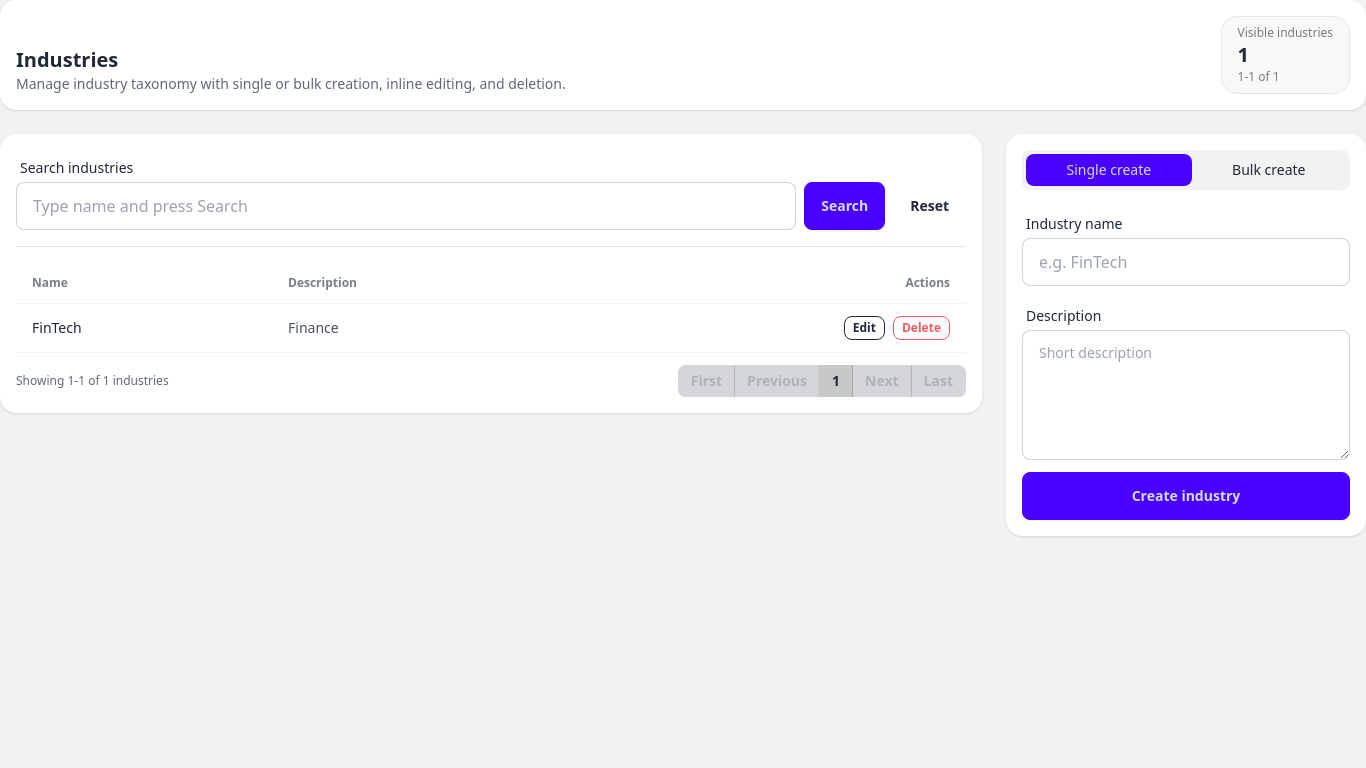
IndustriesPage › creates one industry from single create mode
Expected: the text "FinTech" is shown, [32, 318, 82, 337]
In the field labelled "Industry name": (1186,262) [1022, 238, 1350, 286], type "HealthTech"
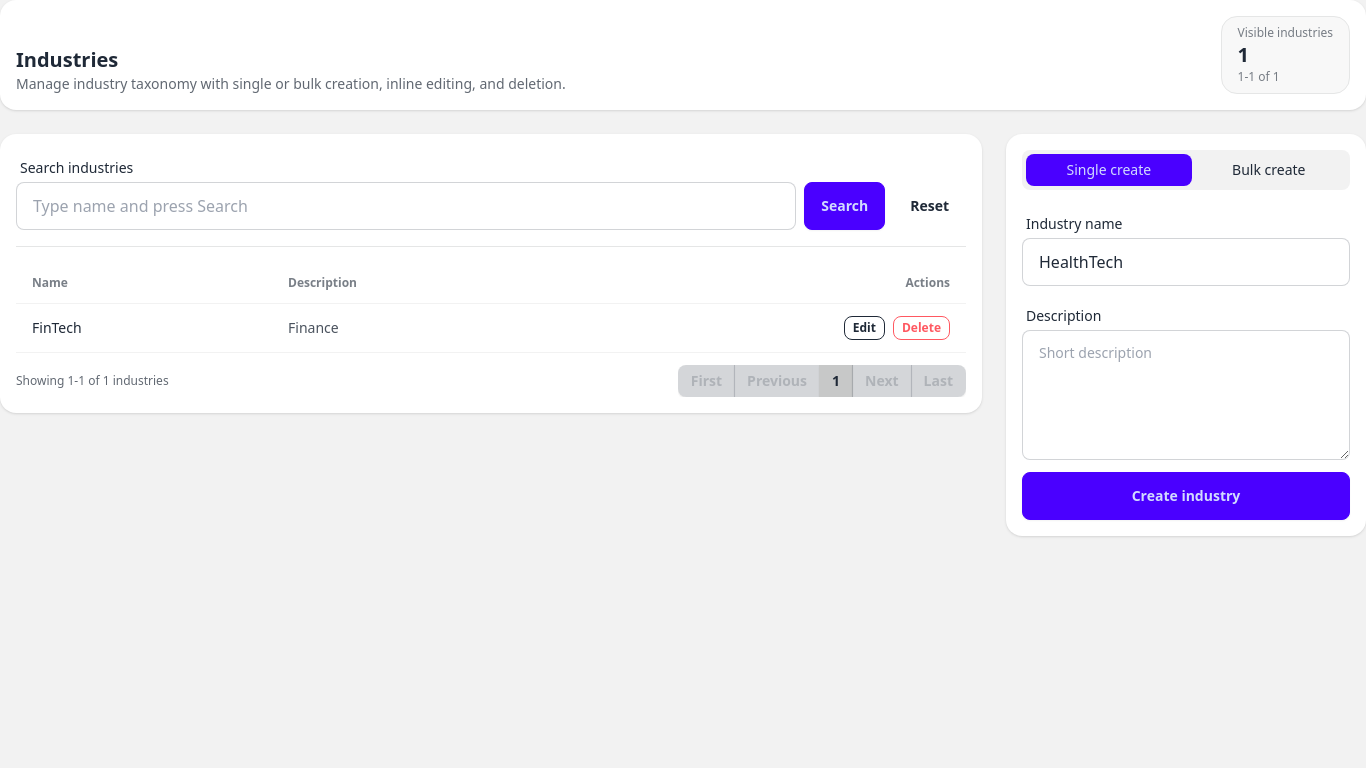
In the text box labelled "Description": (1186,395) [1022, 330, 1350, 460], type "Healthcare"
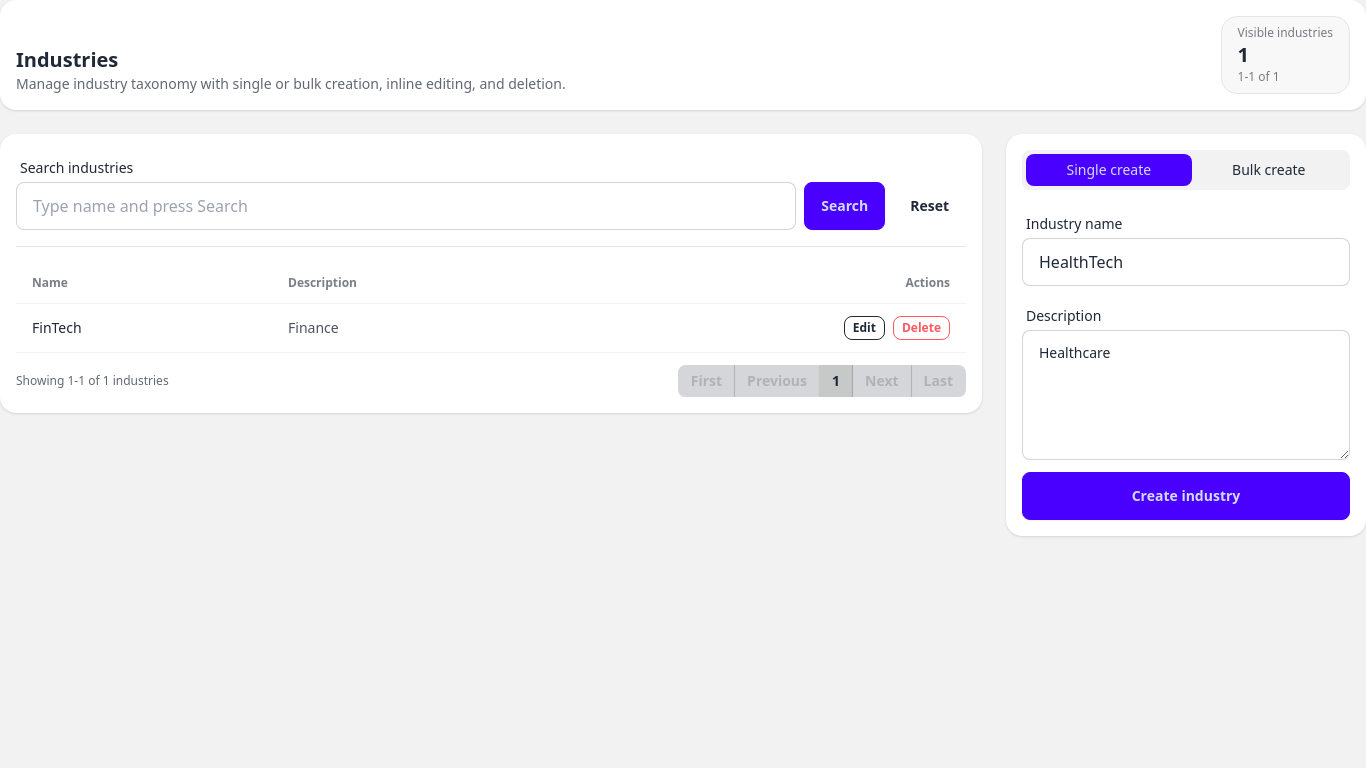
Click the button "Create industry": (1186,496) [1022, 472, 1350, 520]
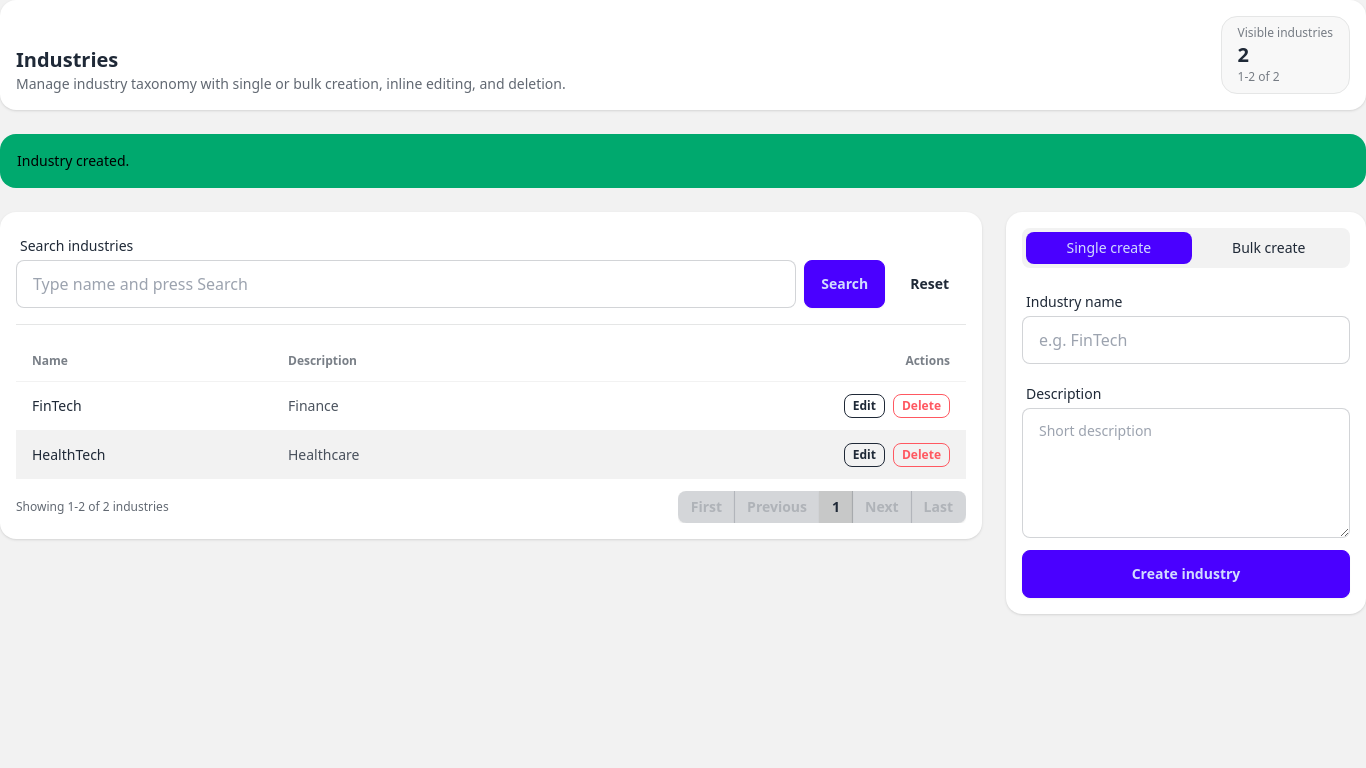
Result: the text "Industry created." is shown at [0, 134, 1365, 188]
Result: the text "HealthTech" is shown at [32, 445, 106, 464]
